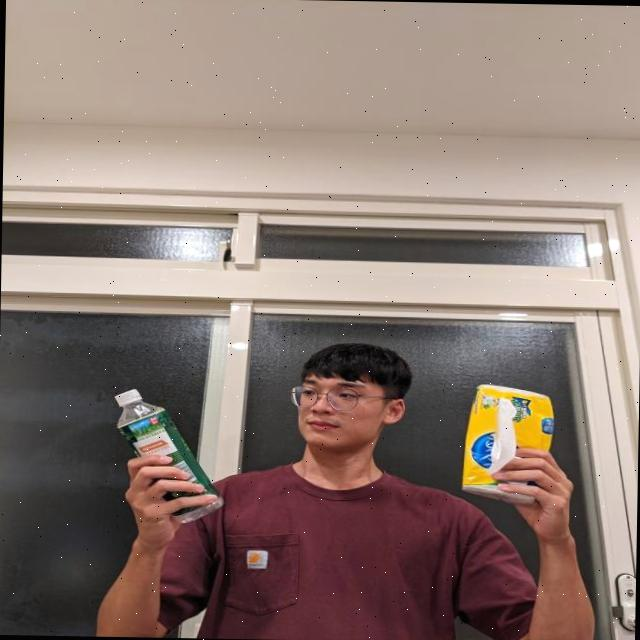bottle: (114, 385, 215, 518)
cap: (114, 378, 140, 410)
